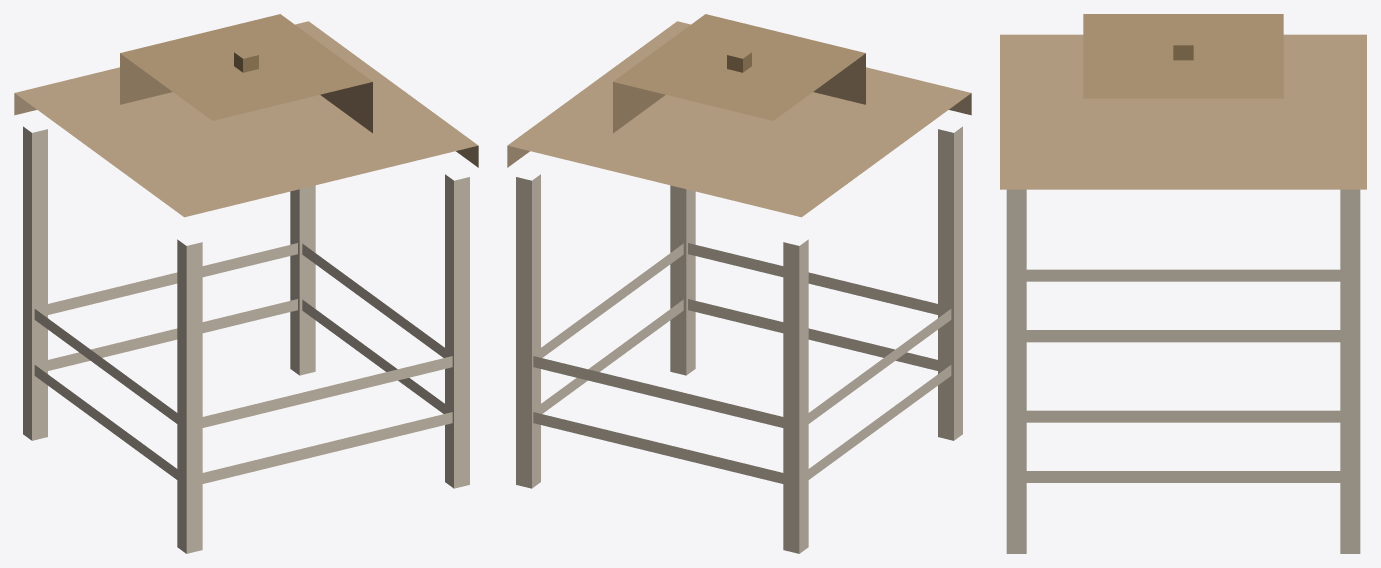
Rendered from gazebo.glb.
3 renders of one model, left to right at view 1: azimuth 30°, elevation 25°; view 2: azimuth 150°, elevation 25°; view 3: azimuth 270°, elevation 25°, orthographic. The views are drawn at different scales.
Size of the model in its own units: 2.2 by 2.9 by 2.2.
